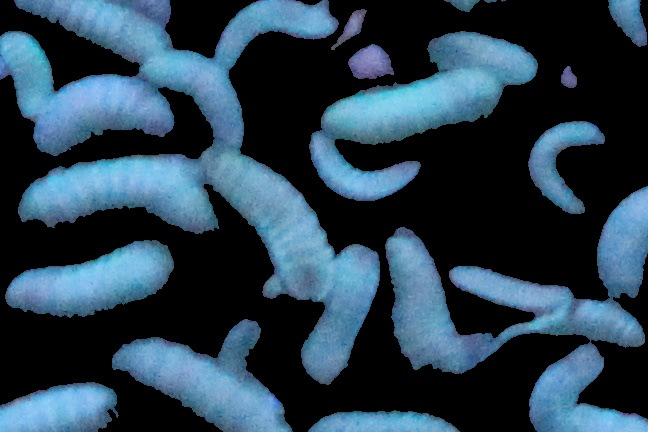larvae: (206, 152, 337, 301), (114, 335, 290, 432), (21, 155, 217, 232), (3, 237, 174, 317), (324, 70, 500, 143), (385, 227, 464, 382), (300, 247, 380, 381), (32, 75, 171, 150), (139, 51, 243, 148), (531, 347, 648, 432), (14, 1, 168, 61), (526, 122, 605, 217), (213, 1, 338, 61), (308, 134, 420, 200), (424, 28, 538, 87), (455, 259, 573, 314), (1, 379, 121, 432), (595, 186, 648, 298), (539, 293, 646, 347), (1, 34, 58, 119), (303, 408, 462, 432)
